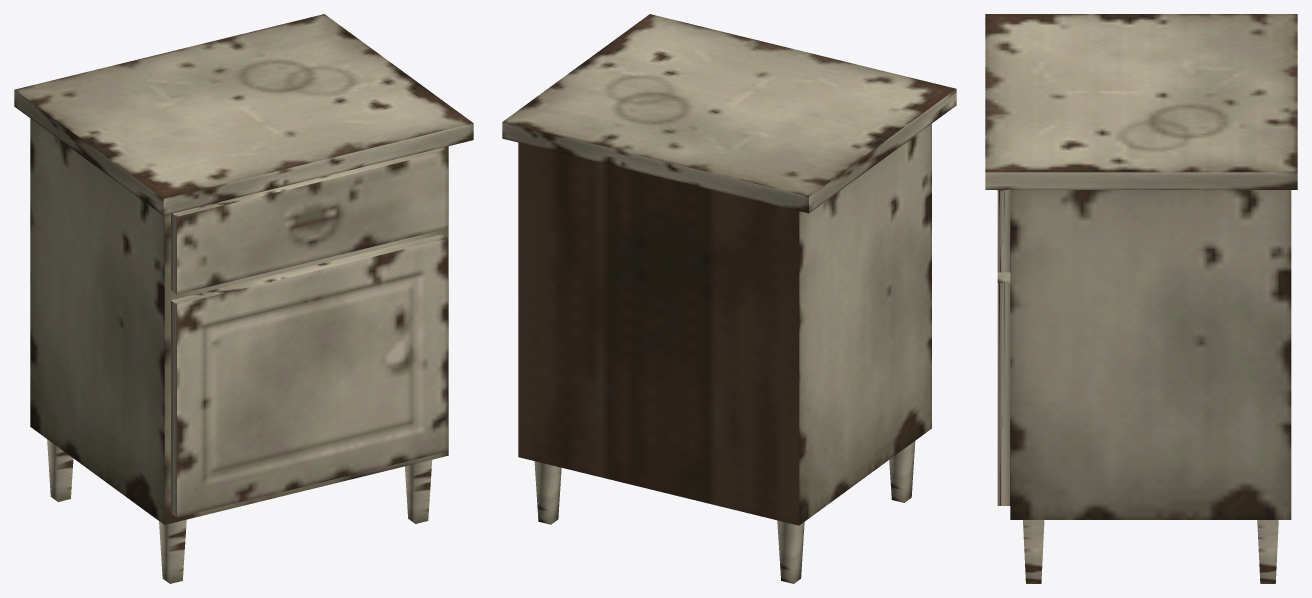
Rendered from nightstand.obj.
The picture shows the model from 3 angles, left to right: view 1: azimuth 30°, elevation 25°; view 2: azimuth 150°, elevation 25°; view 3: azimuth 270°, elevation 25°; orthographic projection. The views are drawn at different scales.
Visible parts, largest first — view 1: nightstand; view 2: nightstand; view 3: nightstand.
Part boxes in pixels (x1=…): nightstand: x1=14, y1=14, x2=473, y2=583; nightstand: x1=502, y1=14, x2=956, y2=583; nightstand: x1=985, y1=14, x2=1297, y2=583.
Size of the model in its own units: 0.48 by 0.6 by 0.4.
1 material, 1 textured.
